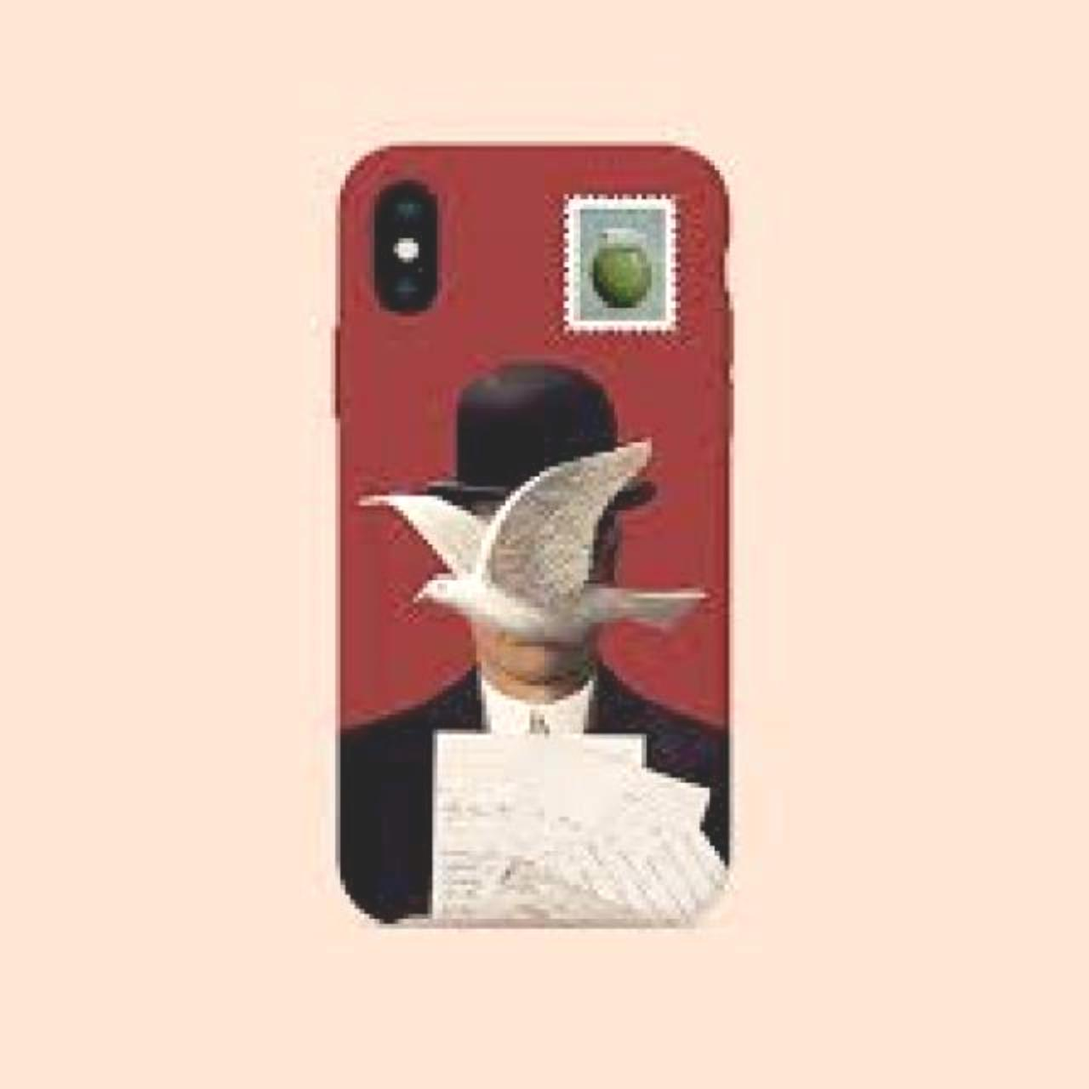phone: (326, 134, 743, 931)
